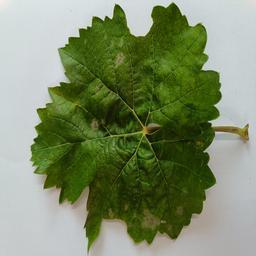Powdery-Mildew: (161, 44, 199, 75), (43, 94, 73, 126), (137, 205, 166, 233), (106, 38, 130, 65), (169, 202, 185, 219), (84, 115, 100, 131)
